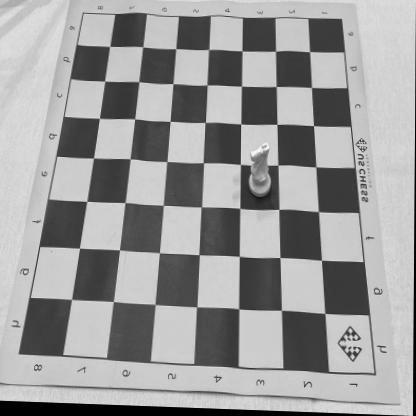white-knight: (248, 142, 272, 200)
